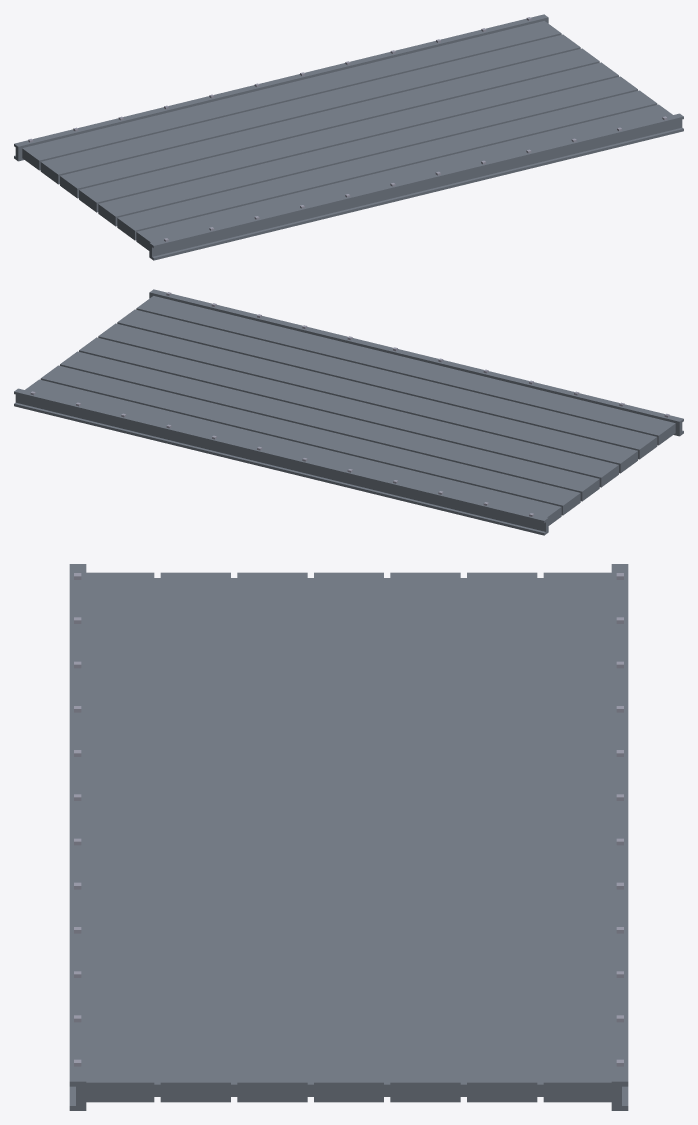
Rendered from Board01_001.fbx.
The picture shows the model from 3 angles, top to bottom: view 1: azimuth 30°, elevation 25°; view 2: azimuth 150°, elevation 25°; view 3: azimuth 270°, elevation 25°; orthographic projection. The views are drawn at different scales.
Parts seen in each view (by area): view 1: Board01.001; view 2: Board01.001; view 3: Board01.001.
Boxes of the visible parts, x1,y1,x2,y2 form: Board01.001: (14, 14, 683, 260); Board01.001: (14, 289, 683, 535); Board01.001: (69, 564, 628, 1110).
Size of the model in its own units: 2.03 by 0.0604 by 0.9266.
